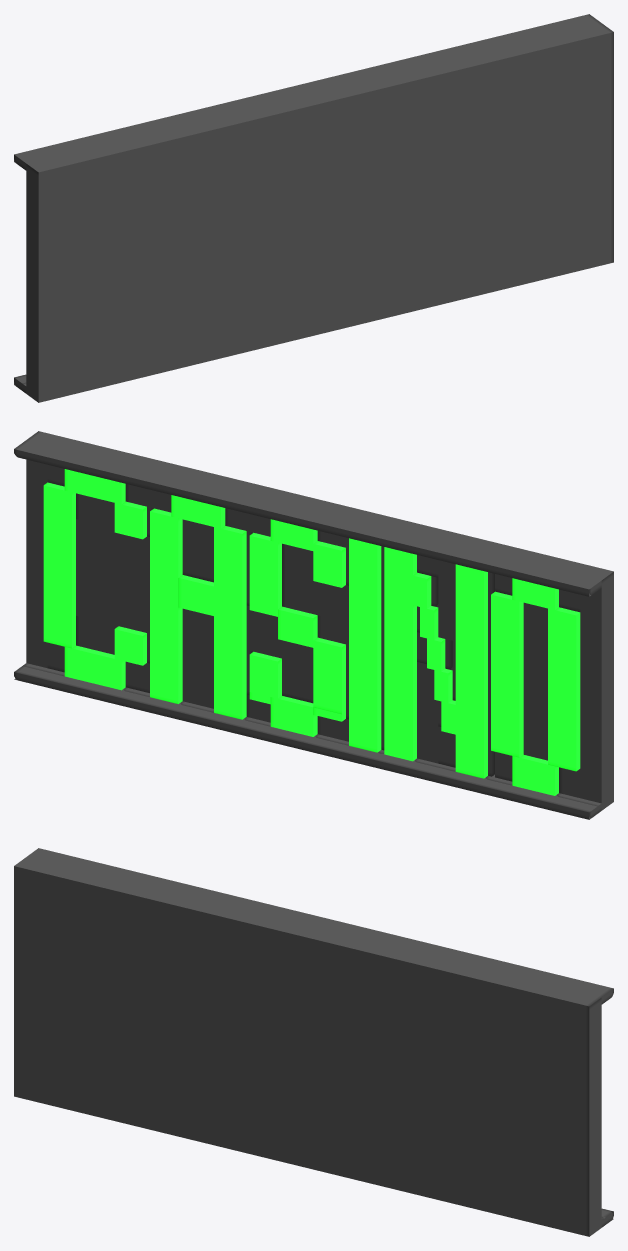
The model's file is neon2.dae.
3 renders of one model, top to bottom at view 1: azimuth 30°, elevation 25°; view 2: azimuth 150°, elevation 25°; view 3: azimuth 330°, elevation 25°, orthographic.
Parts seen in each view (by area): view 1: Content; view 2: Content; view 3: Content.
Boxes of the visible parts, x1,y1,x2,y2 form: Content: [14, 14, 613, 402]; Content: [14, 431, 613, 819]; Content: [14, 848, 613, 1236].
Size of the model in its own units: 81 by 31 by 6.
1 material, 1 textured.
